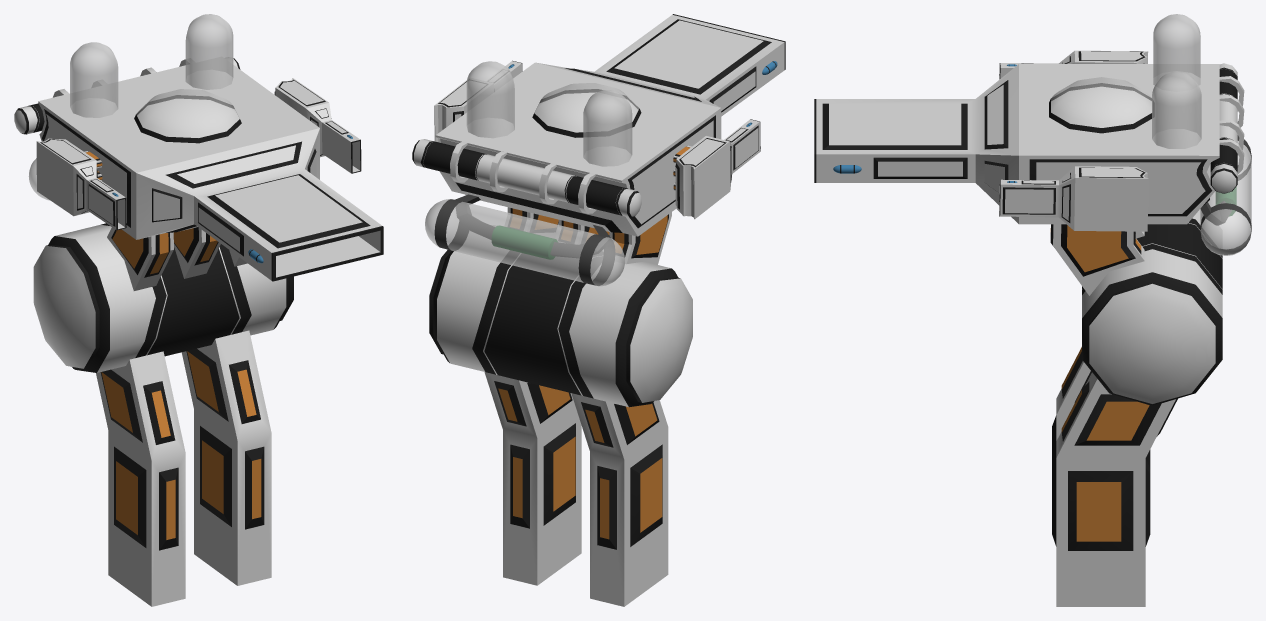
The model's file is tower_slow_upgrade2_asset.fbx.
The picture shows the model from 3 angles, left to right: view 1: azimuth 30°, elevation 25°; view 2: azimuth 150°, elevation 25°; view 3: azimuth 270°, elevation 25°; orthographic projection. The views are drawn at different scales.
Visible parts, largest first — view 1: slow_tower_top, slow_tower_bottom; view 2: slow_tower_top, slow_tower_bottom; view 3: slow_tower_top, slow_tower_bottom.
Part boxes in pixels (bbox=[...]): slow_tower_top: bbox=[14, 14, 383, 290]; slow_tower_bottom: bbox=[33, 223, 293, 606]; slow_tower_top: bbox=[412, 14, 785, 286]; slow_tower_bottom: bbox=[429, 225, 692, 606]; slow_tower_top: bbox=[814, 14, 1251, 295]; slow_tower_bottom: bbox=[1052, 209, 1222, 606].
Size of the model in its own units: 113 by 219 by 163.
